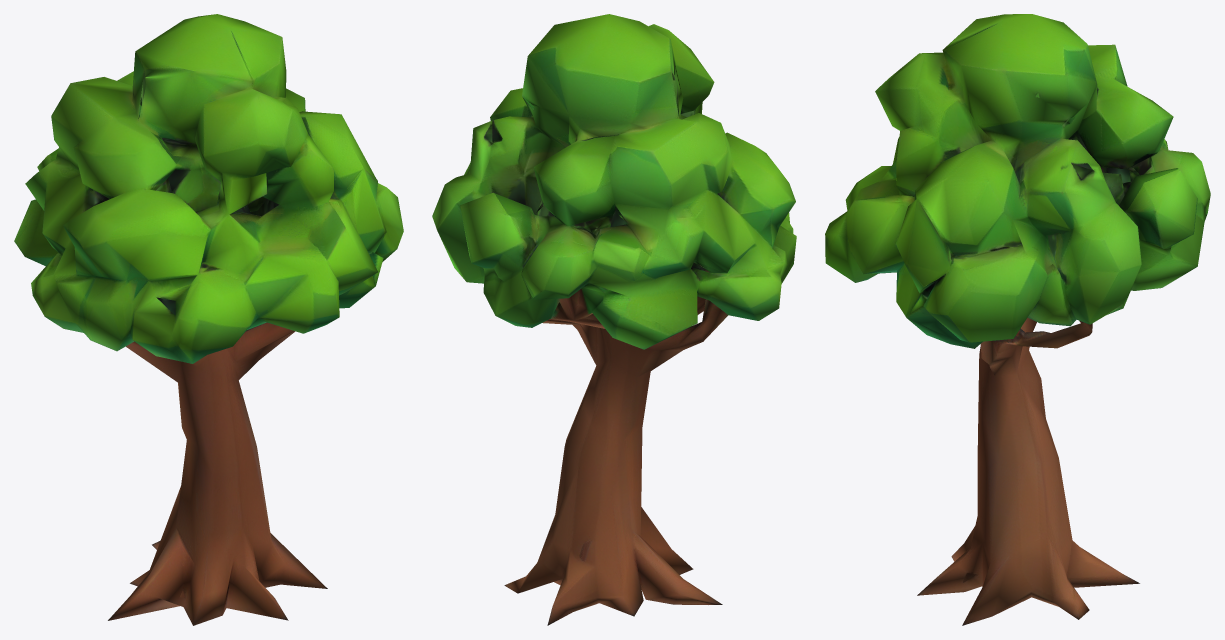
File: broadleaf_tree.glb
3 views of the same model, side by side, from view 1: azimuth 30°, elevation 25°; view 2: azimuth 150°, elevation 25°; view 3: azimuth 270°, elevation 25° (orthographic).
Bounding box in the file's own units: 1.24 × 2 × 1.23.
Materials: 1 (1 with a texture image).
